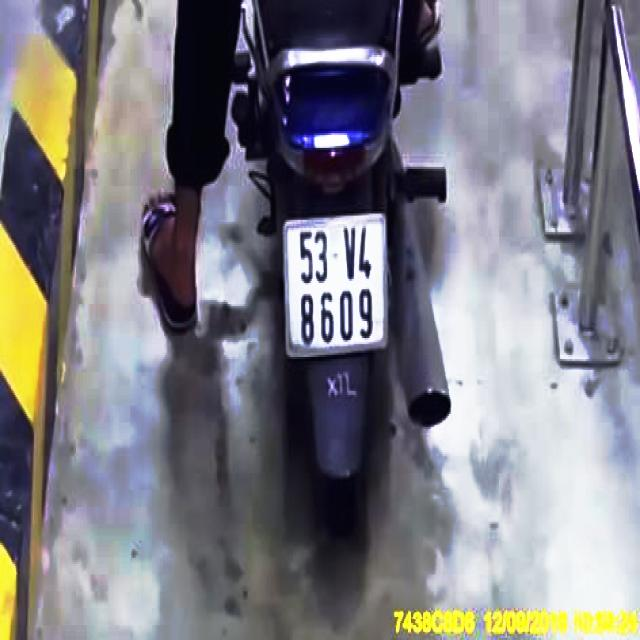license_plate: (286, 216, 387, 354)
